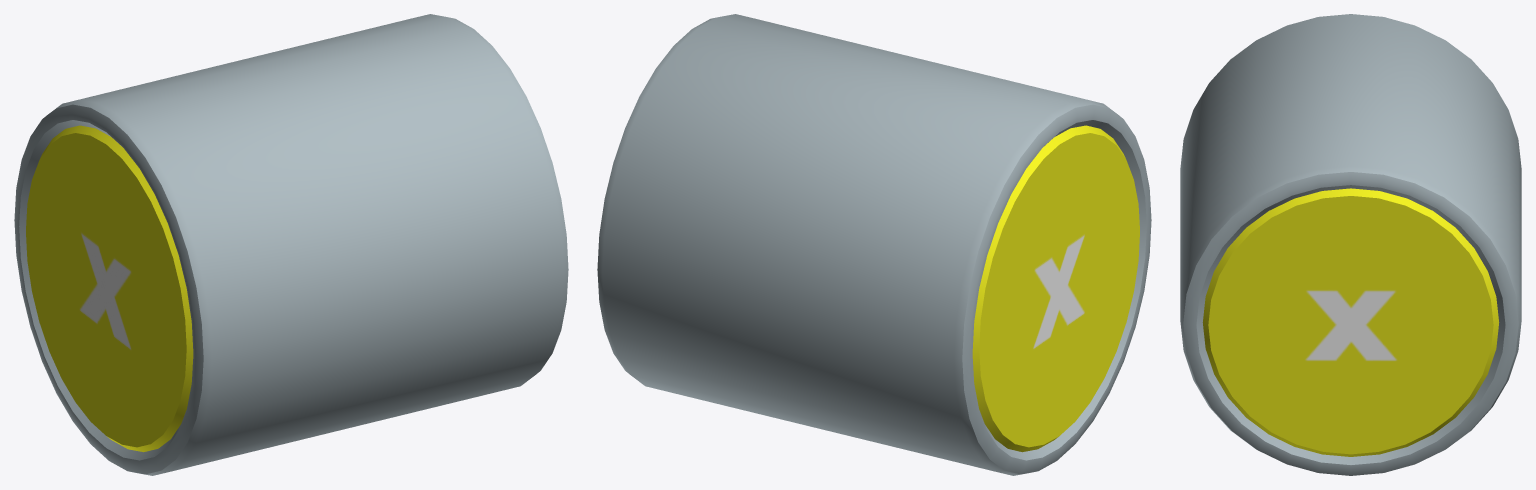
File: VariableBlock_X.fbx
The picture shows the model from 3 angles, left to right: view 1: azimuth 30°, elevation 25°; view 2: azimuth 150°, elevation 25°; view 3: azimuth 270°, elevation 25°; orthographic projection. The views are drawn at different scales.
Parts seen in each view (by area): view 1: VariableBlock_X; view 2: VariableBlock_X; view 3: VariableBlock_X.
Part boxes in pixels (<box>): VariableBlock_X: <box>14,14,568,475</box>; VariableBlock_X: <box>597,14,1151,475</box>; VariableBlock_X: <box>1180,14,1521,475</box>.
Bounding box in the file's own units: 100 × 90 × 90.
Materials: 1 (1 with a texture image).
